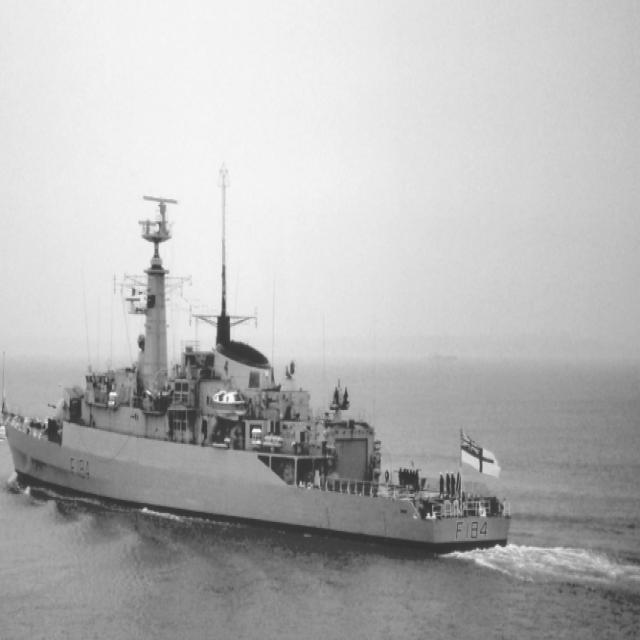Fragata: (2, 186, 508, 562)
